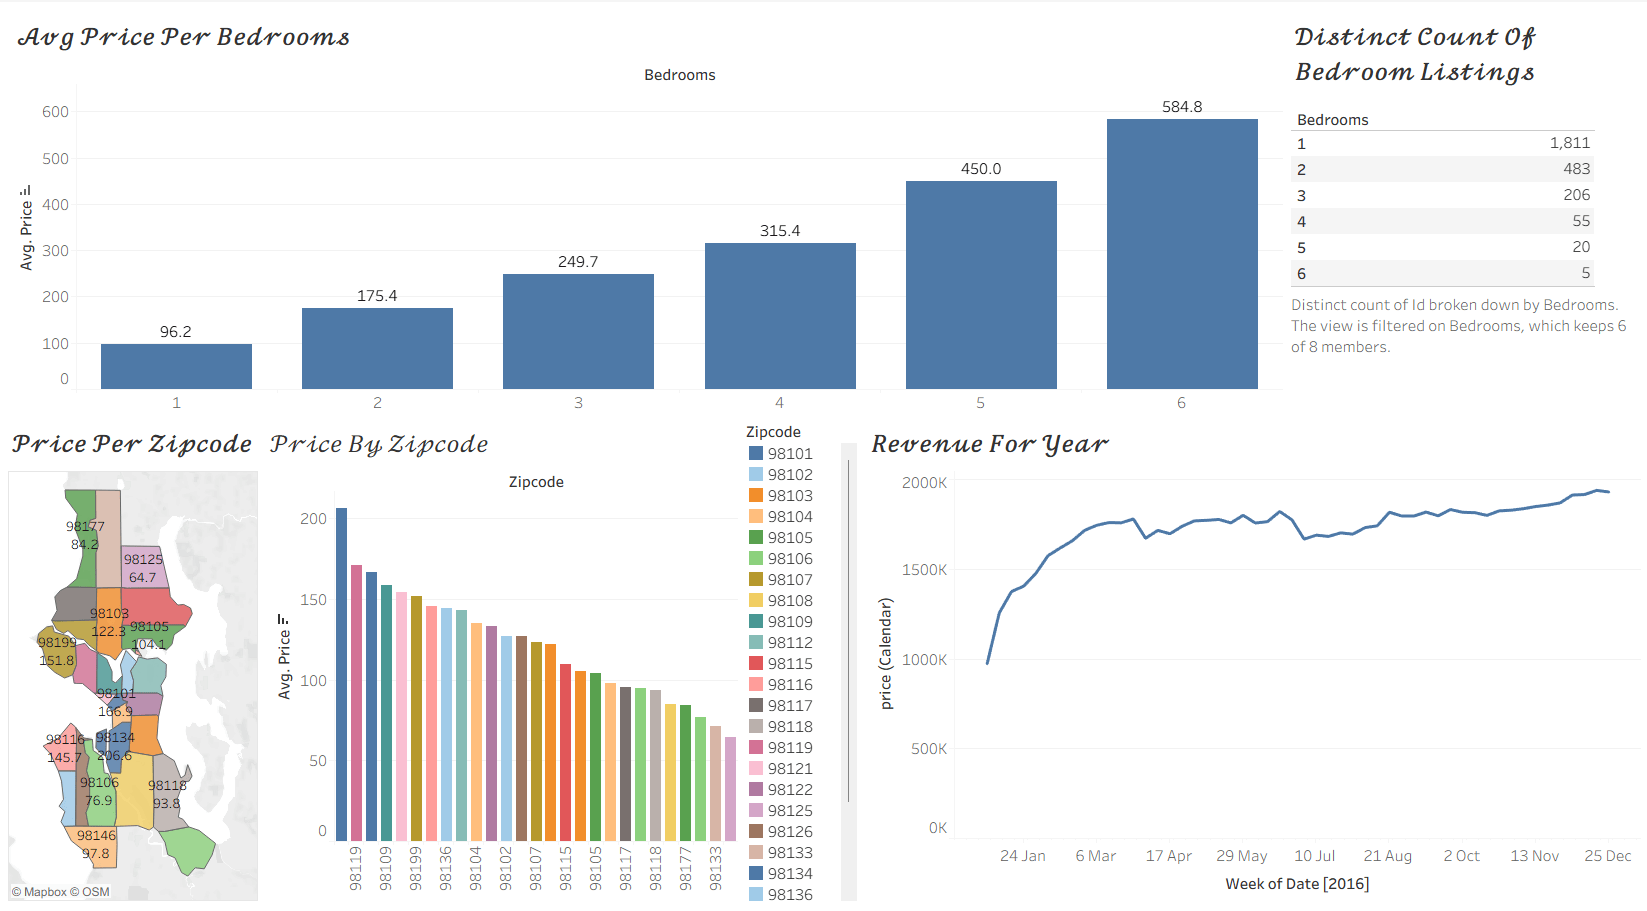

The dashboard page shown, as its layout file describes it:
{"tool":"tableau","page":{"name":"Dashboard 1","canvas":[1000,1000],"units":"permille","ordinal":0},"visuals":[{"type":"worksheet","title":"Sheet 4","mark":"Automatic","rows":["price"],"cols":["bedrooms"],"box":[4.8,8.8,774.3,446.8]},{"type":"worksheet","title":"Sheet 5","mark":"Automatic","rows":["bedrooms"],"box":[779.1,8.8,216.1,446.8]},{"type":"worksheet","title":"Sheet 2","mark":"Multipolygon","box":[4.8,455.5,155.7,535.7]},{"type":"worksheet","title":"Sheet 1","mark":"Automatic","rows":["price"],"cols":["zipcode"],"box":[160.5,455.5,289.7,535.7]},{"type":"legend","title":"Sheet 1","param":"[federated.0q0ws930cxm96w11w8orz0xoozbi].[none:zipcode:ok]","box":[450.2,455.5,73,535.7]},{"type":"worksheet","title":"Sheet 3","mark":"Automatic","rows":["price (Calendar)"],"cols":["date"],"box":[523.2,455.5,471.9,535.7]}]}

Visuals, with their boxes on the dashboard's canvas, which has no fixed pixel size, in thousandths of its width and height (x1, y1, x2, y2). These are canvas units, not pixel positions in the 1647x911 screenshot, which may show the page scaled, cropped or inside an application window:
"Sheet 4" worksheet: detection(5, 9, 779, 456)
"Sheet 5" worksheet: detection(779, 9, 995, 456)
"Sheet 2" worksheet (Multipolygon marks): detection(5, 456, 160, 991)
"Sheet 1" worksheet: detection(160, 456, 450, 991)
"Sheet 1" legend: detection(450, 456, 523, 991)
"Sheet 3" worksheet: detection(523, 456, 995, 991)
